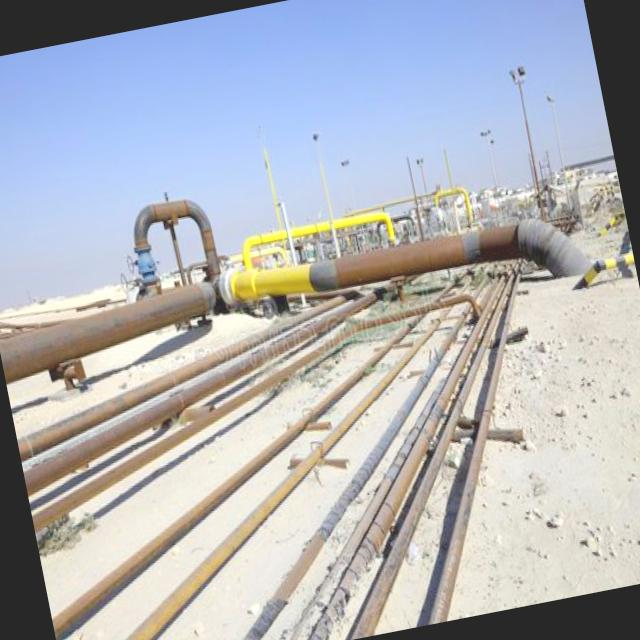gas: (0, 219, 589, 383), (23, 299, 365, 495), (17, 299, 344, 460), (348, 312, 499, 640), (421, 270, 519, 626)
